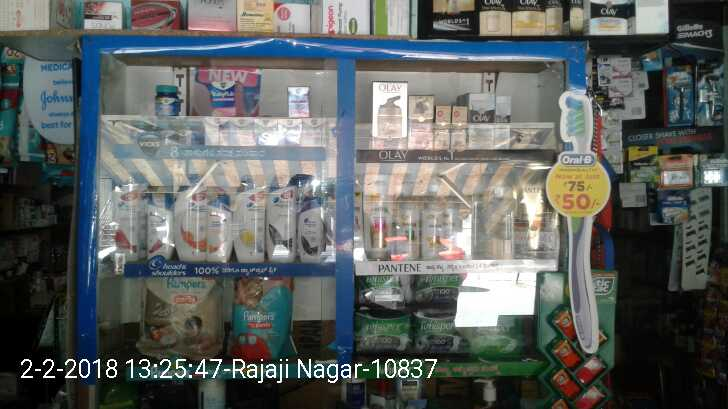beauty: (106, 177, 142, 263), (232, 168, 264, 261), (172, 179, 206, 265), (267, 174, 297, 262), (371, 80, 405, 150), (294, 191, 327, 263), (511, 183, 542, 257), (202, 186, 230, 261), (146, 189, 174, 262), (415, 204, 444, 259), (392, 203, 419, 261), (466, 95, 495, 148), (410, 93, 435, 149), (435, 102, 450, 150), (449, 105, 465, 147)
pharmacy: (137, 275, 223, 371), (228, 274, 293, 369), (468, 309, 528, 357), (409, 306, 470, 352), (350, 312, 408, 350), (412, 271, 471, 299), (356, 275, 405, 306), (205, 77, 237, 122), (152, 84, 185, 121), (285, 84, 309, 120)
